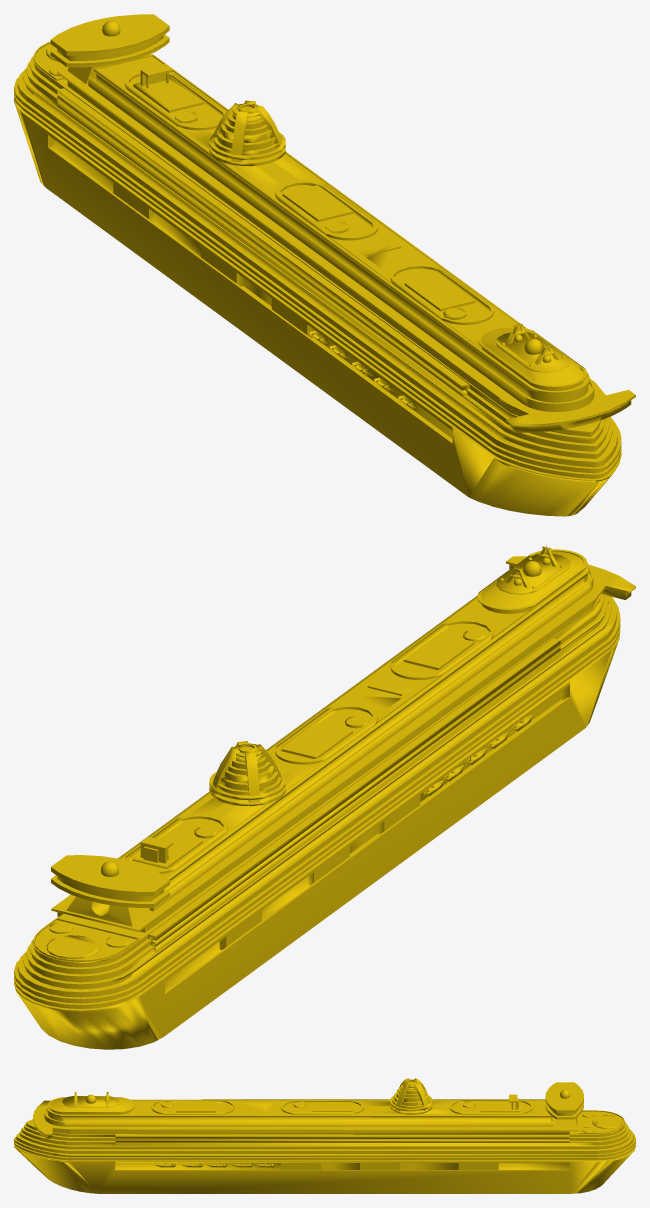
Rendered from boat-1.gltf.
3 renders of one model, top to bottom at view 1: azimuth 30°, elevation 25°; view 2: azimuth 150°, elevation 25°; view 3: azimuth 270°, elevation 25°, orthographic. The views are drawn at different scales.
Visible parts, largest first — view 1: cruise+ship; view 2: cruise+ship; view 3: cruise+ship.
Part boxes in pixels (x1,y1,x2,y2): cruise+ship: [14, 14, 635, 516]; cruise+ship: [14, 545, 635, 1049]; cruise+ship: [14, 1078, 635, 1193].
Size of the model in its own units: 2.57 by 3.43 by 20.09.
